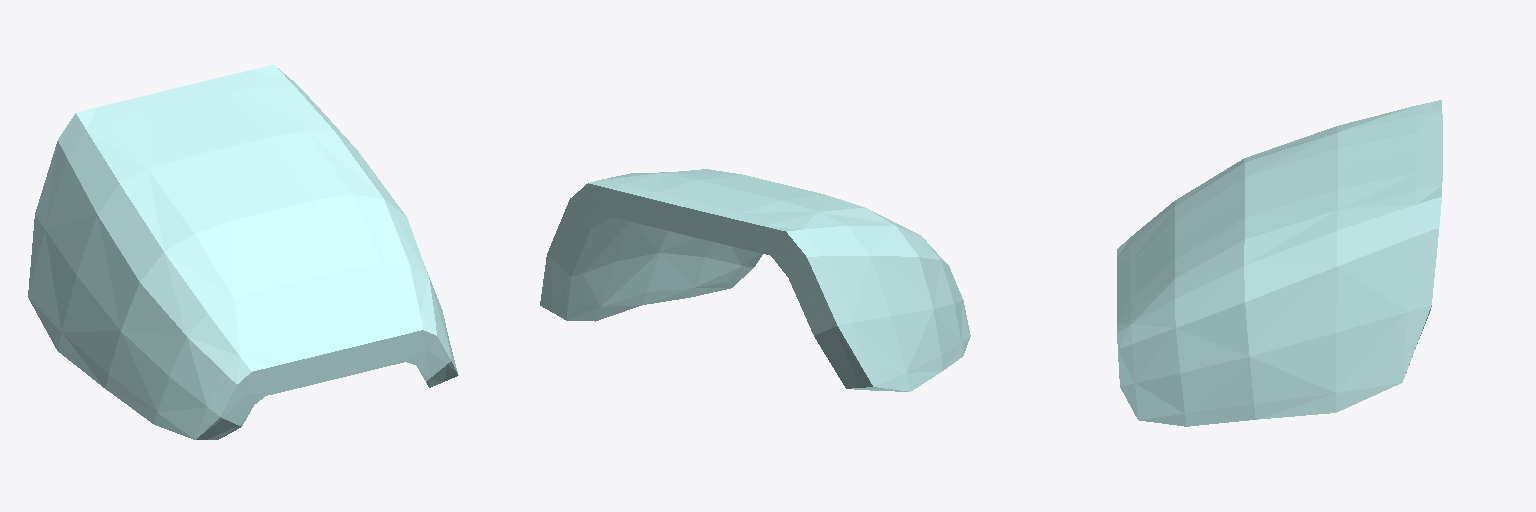
Rendered from heli_window.obj.
3 renders of one model, left to right at view 1: azimuth 30°, elevation 25°; view 2: azimuth 150°, elevation 25°; view 3: azimuth 270°, elevation 25°, orthographic.
Visible parts, largest first — view 1: window Heli; view 2: window Heli; view 3: window Heli.
Boxes of the visible parts, x1=… form: window Heli: x1=28, y1=65, x2=458, y2=439; window Heli: x1=540, y1=169, x2=970, y2=391; window Heli: x1=1117, y1=100, x2=1442, y2=426.
Bounding box in the file's own units: 0.9518 × 0.5749 × 0.7869.